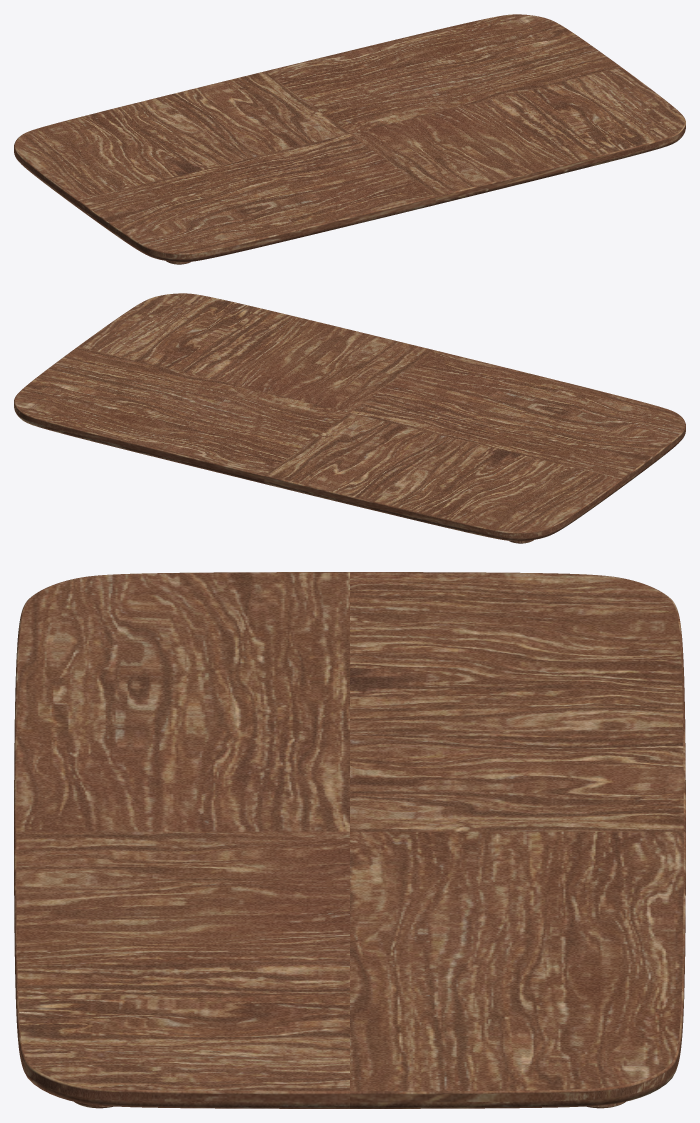
Rendered from TableTop_Long_Cedar.obj.
3 renders of one model, top to bottom at view 1: azimuth 30°, elevation 25°; view 2: azimuth 150°, elevation 25°; view 3: azimuth 270°, elevation 25°, orthographic. The views are drawn at different scales.
Size of the model in its own units: 1649 by 59.33 by 899.
